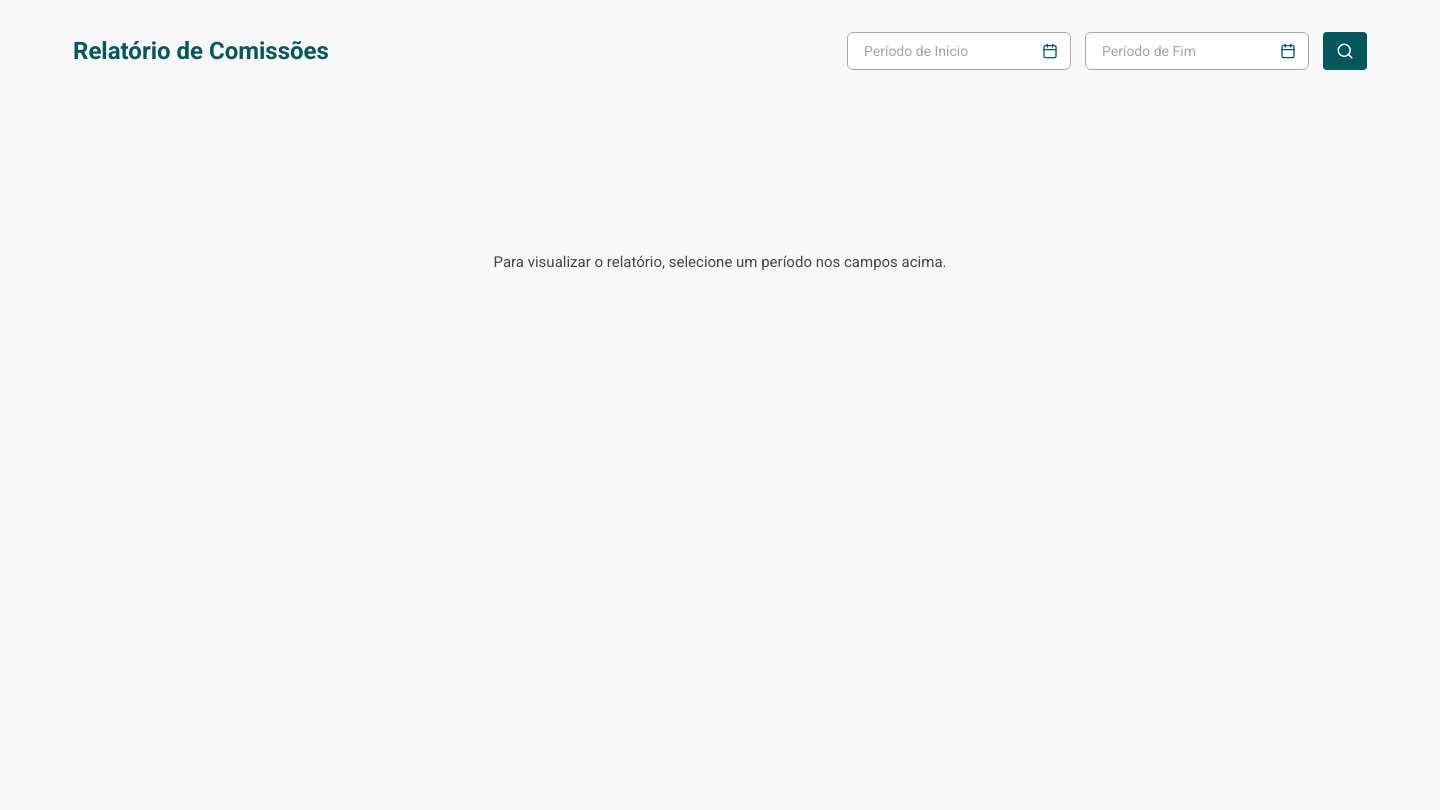
Commissions Report Page Component › exibe alerta de validação quando a data inicial é maior que a data final
Note: Inverte as datas
Type "2026-09-25" into the field named "data inicial".
click(953, 51); type("2026-09-25")  # box 864,43 -> 1042,59
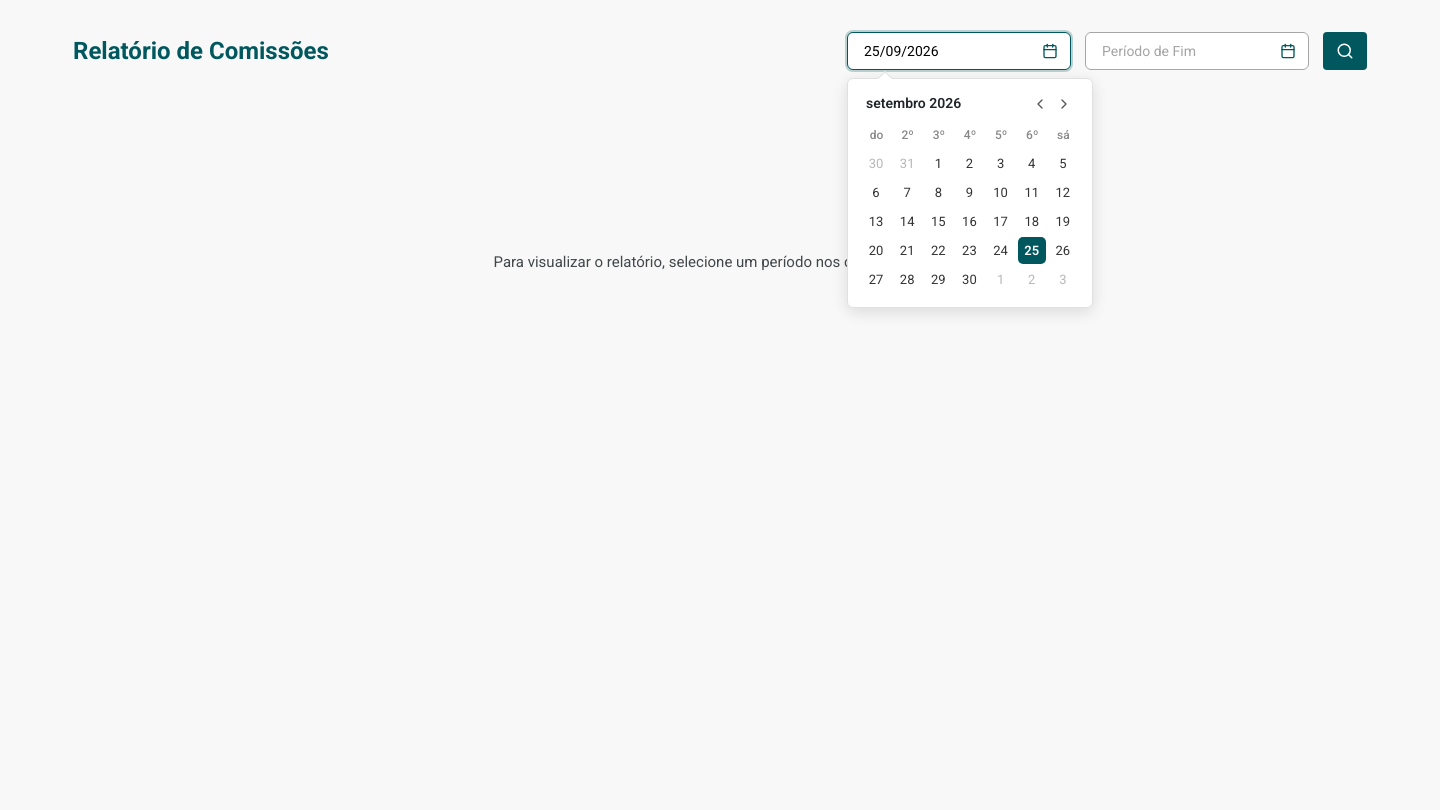
Type "2026-09-10" into the field named "data final".
click(1191, 51); type("2026-09-10")  # box 1102,43 -> 1280,59
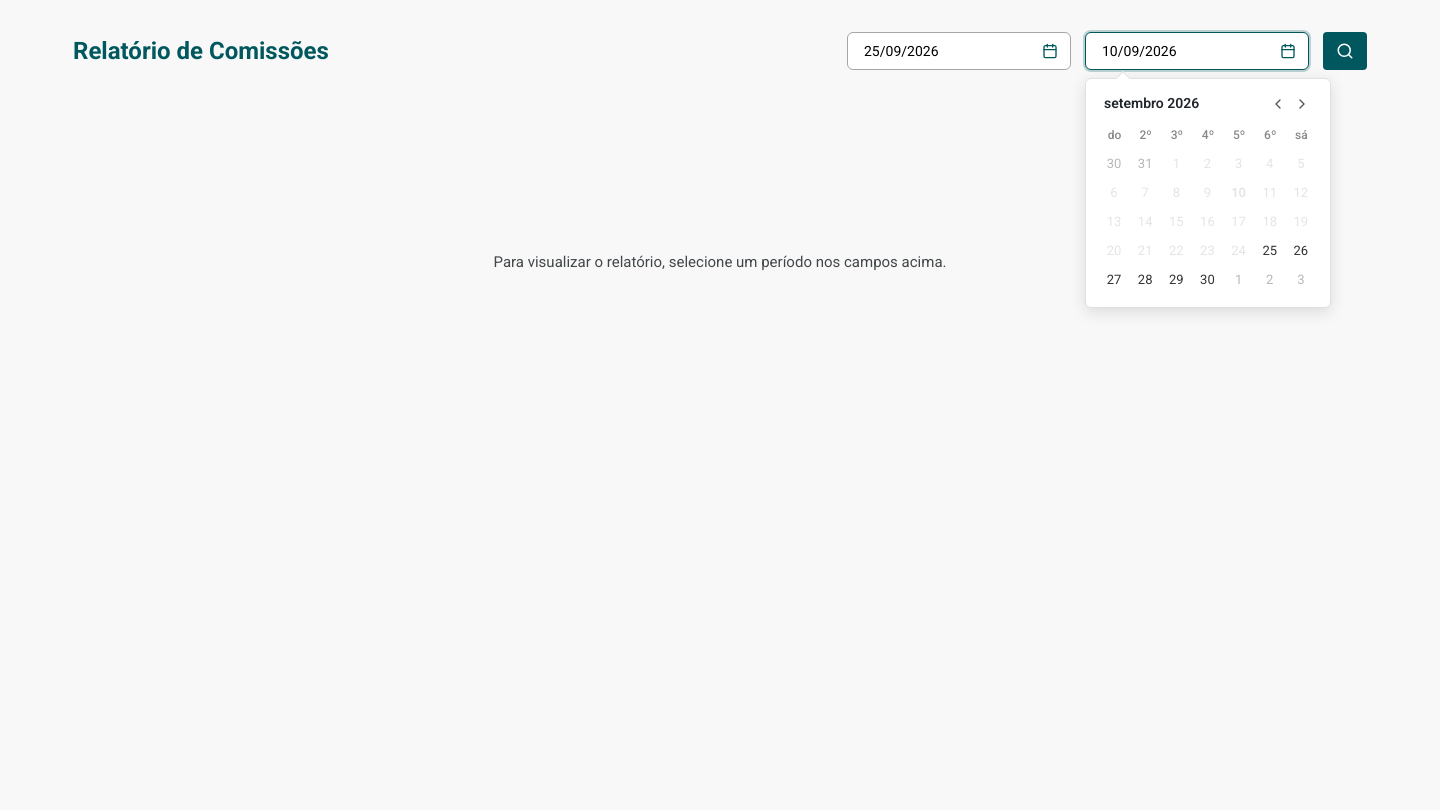
Click the button named "consultar comissões".
click(1345, 51)  # box 1323,32 -> 1367,70
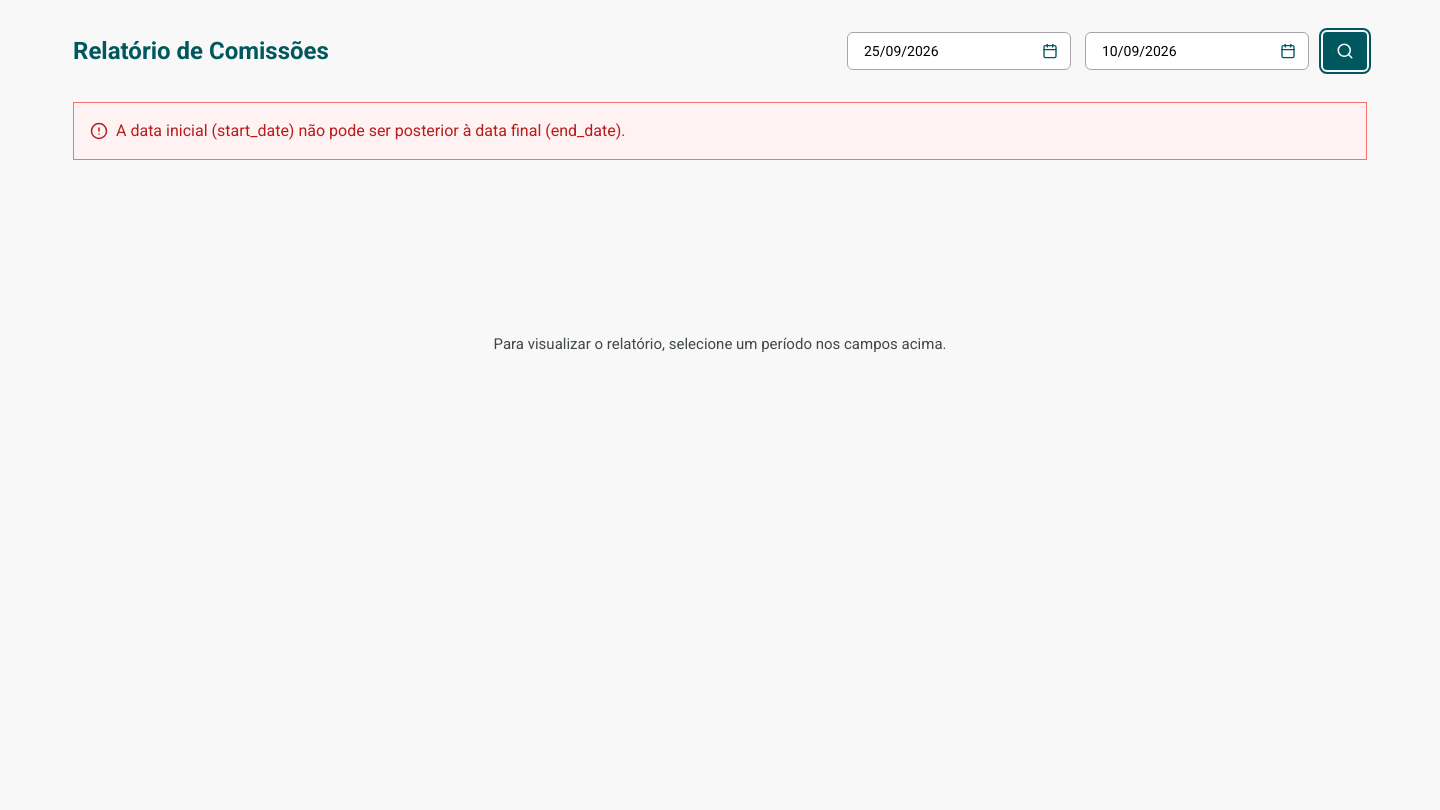
Expected: the text "não pode ser posterior à data final" is shown, 116,121 -> 626,140
